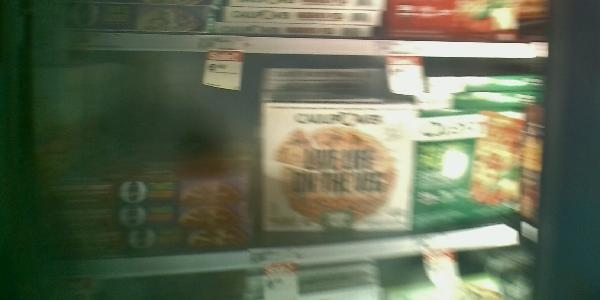pizza: (260, 102, 410, 239), (412, 111, 524, 235)
pizza1: (37, 228, 253, 260), (40, 174, 252, 202), (38, 202, 252, 226), (263, 85, 411, 108), (263, 67, 389, 89), (415, 94, 544, 115), (423, 74, 545, 95)
